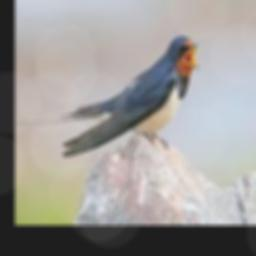Swallow: (60, 36, 198, 157)
